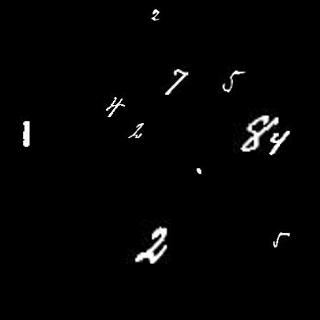dot: (191, 165, 207, 177)
eight: (241, 111, 276, 152)
five: (220, 68, 246, 95), (272, 230, 290, 246)
four: (268, 131, 292, 157), (104, 94, 125, 118)
one: (21, 117, 31, 151)
seven: (164, 60, 190, 97)
two: (137, 226, 170, 265), (129, 121, 147, 140), (149, 5, 163, 23)
